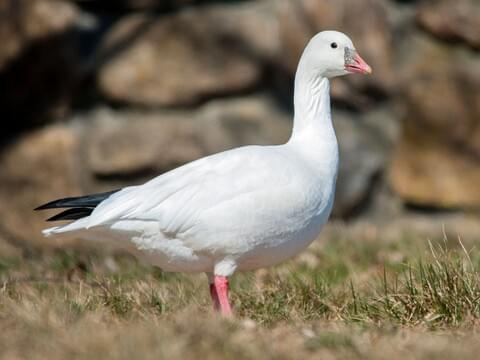goose: (68, 27, 373, 300)
